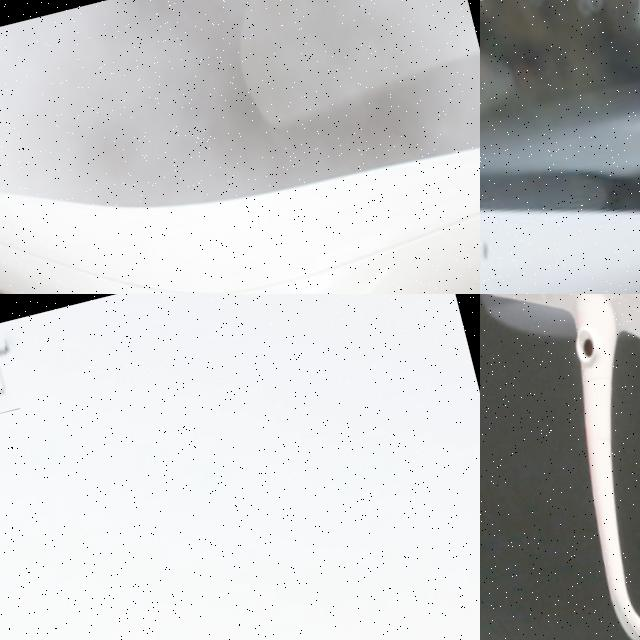drone: (0, 0, 480, 294), (480, 294, 640, 640), (480, 0, 640, 294), (0, 323, 19, 424)
